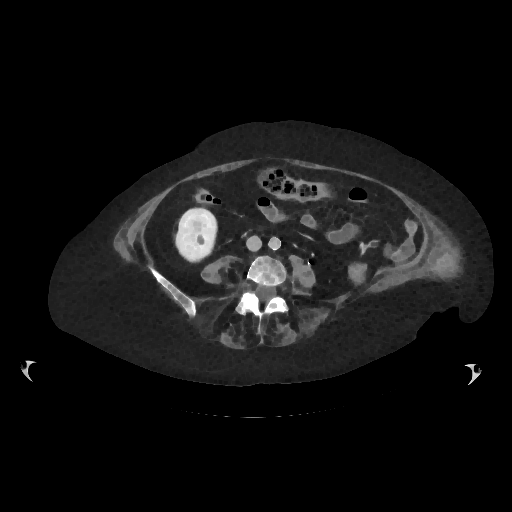Lesion: (192, 232, 207, 247)
